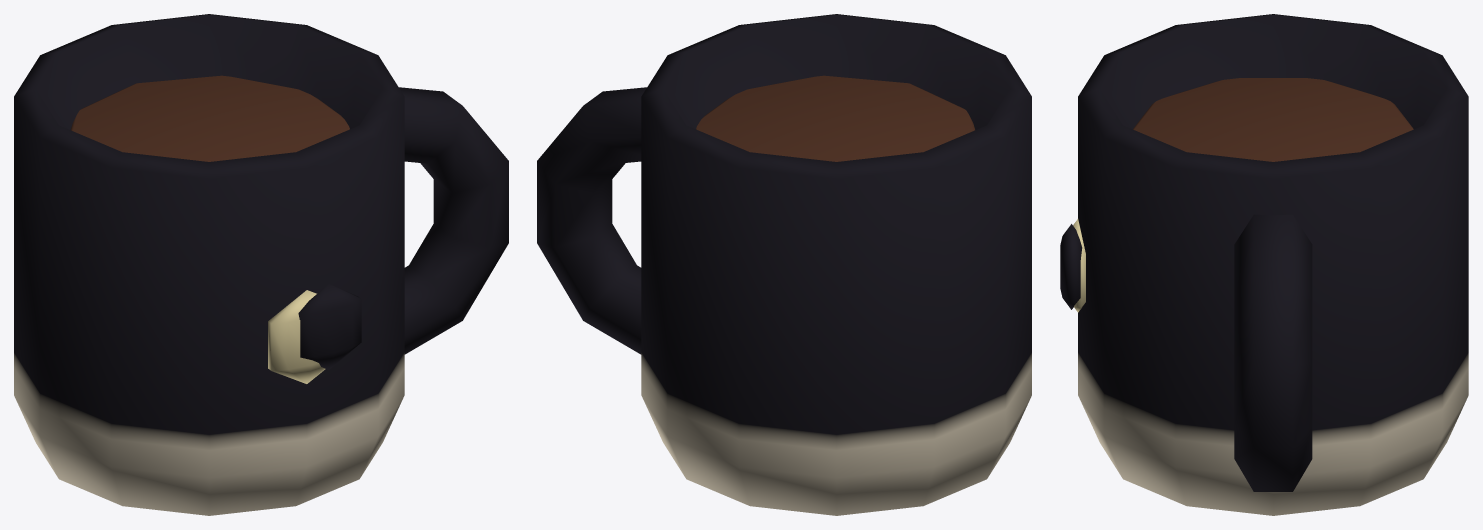
File: mug_black.glb
3 renders of one model, left to right at view 1: azimuth 30°, elevation 25°; view 2: azimuth 150°, elevation 25°; view 3: azimuth 270°, elevation 25°, orthographic.
Parts seen in each view (by area): view 1: mug_black; view 2: mug_black; view 3: mug_black.
Part boxes in pixels (x1,y1,x2,y2): mug_black: (14, 14, 508, 515); mug_black: (537, 14, 1031, 515); mug_black: (1060, 14, 1468, 515).
Size of the model in its own units: 0.1221 by 0.09 by 0.0941.
